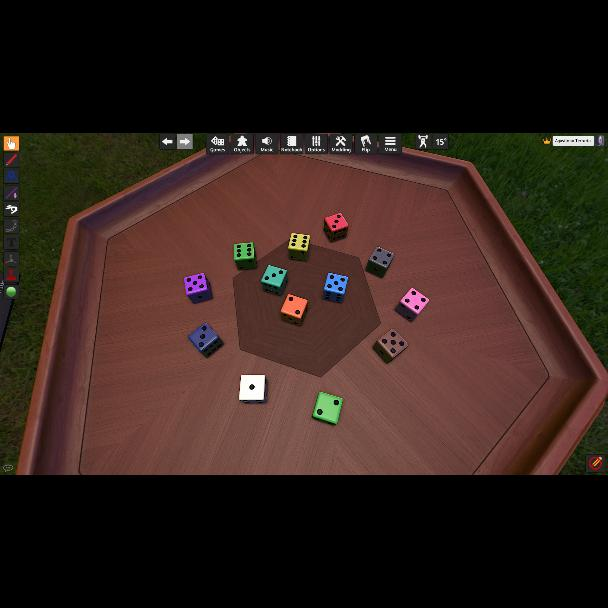d6: (187, 323, 223, 359), (394, 286, 428, 322), (371, 330, 405, 364), (312, 392, 342, 424), (183, 272, 212, 304), (238, 374, 266, 404), (280, 294, 306, 324), (261, 266, 287, 296), (366, 248, 392, 278), (322, 272, 346, 304), (324, 213, 346, 243), (233, 242, 255, 272), (288, 234, 308, 262)
